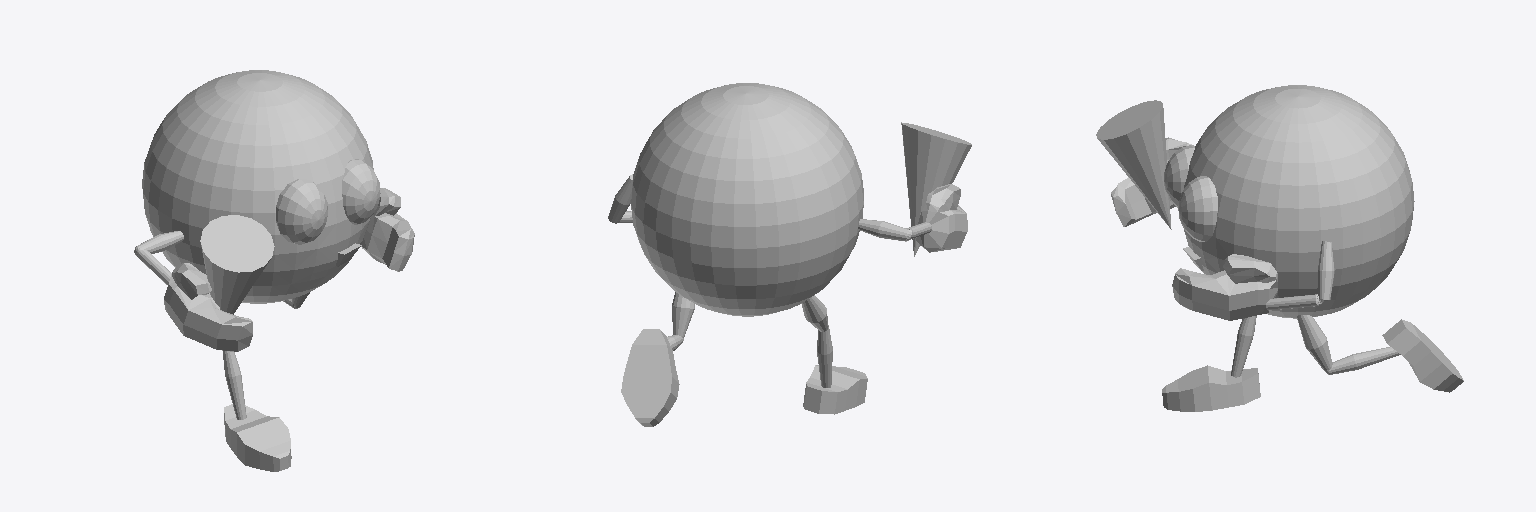
The model's file is Rusko_ani_02_000009.obj.
The picture shows the model from 3 angles: view 1: azimuth 30°, elevation 25°; view 2: azimuth 150°, elevation 25°; view 3: azimuth 270°, elevation 25°; orthographic projection.
Parts seen in each view (by area): view 1: Rusko_Sphere; view 2: Rusko_Sphere; view 3: Rusko_Sphere.
Part boxes in pixels (left/top/right/bottom): Rusko_Sphere: left=134, top=70, right=414, bottom=471; Rusko_Sphere: left=608, top=83, right=971, bottom=426; Rusko_Sphere: left=1096, top=85, right=1463, bottom=411.
Bounding box in the file's own units: 5.4 × 6.25 × 6.28.